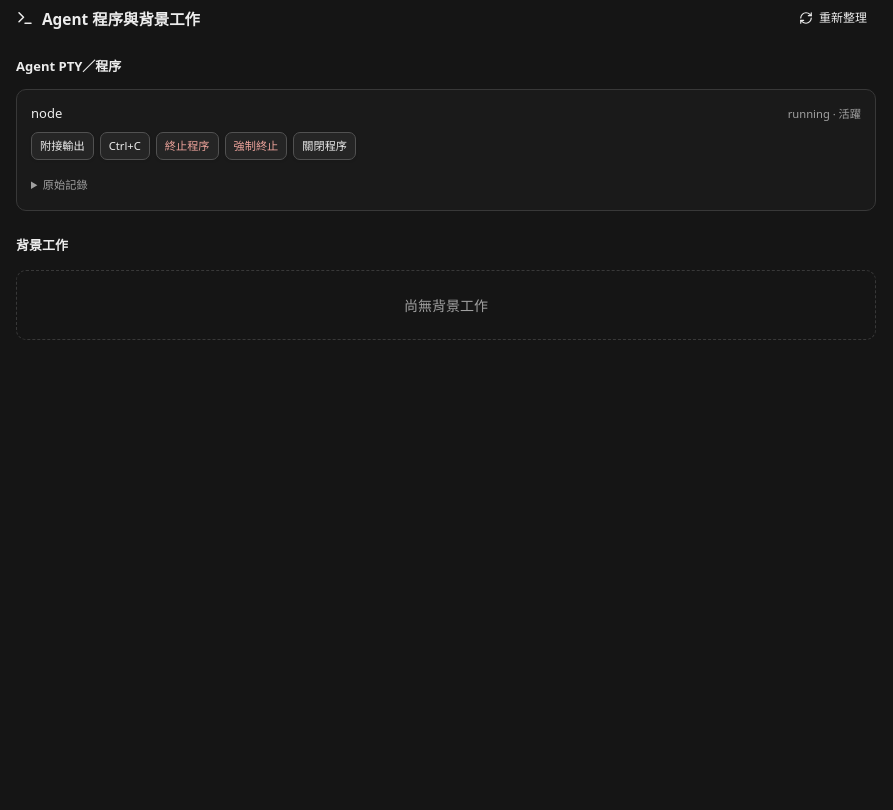
Scenario: reads owner process output, sends only explicit input, and retains its draft on refusal
Click the button "附接輸出" at coordinates (62, 146), box [31,132,94,160]
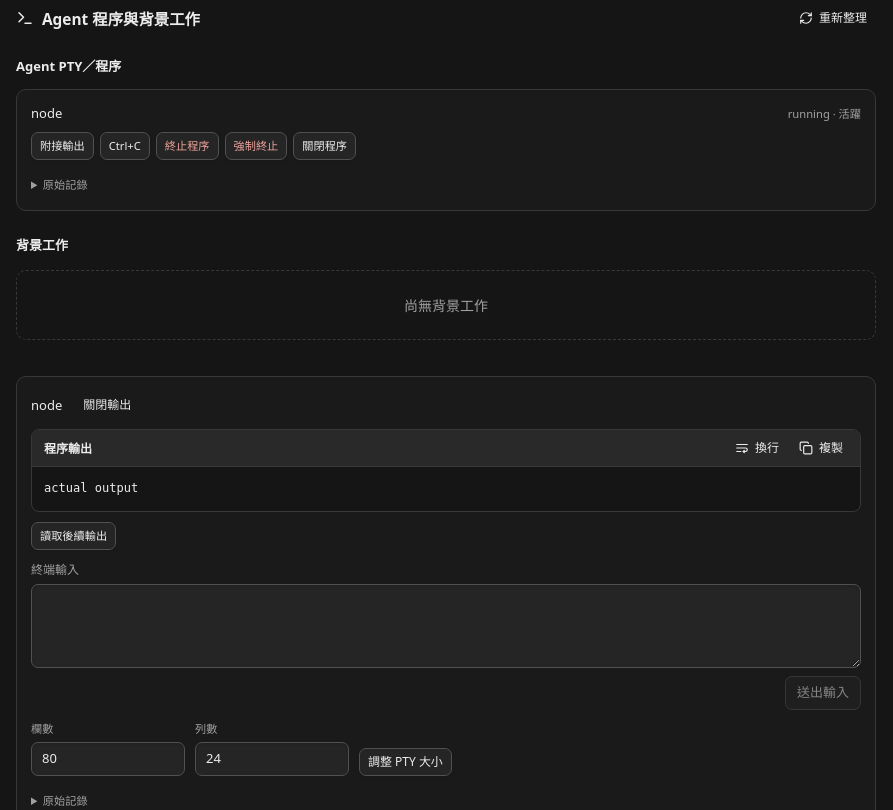
Now the text "actual output" is shown, box [44,481,138,495]
Type "my command" into the text box labelled "終端輸入" at coordinates (446, 626), box [31,584,861,668]
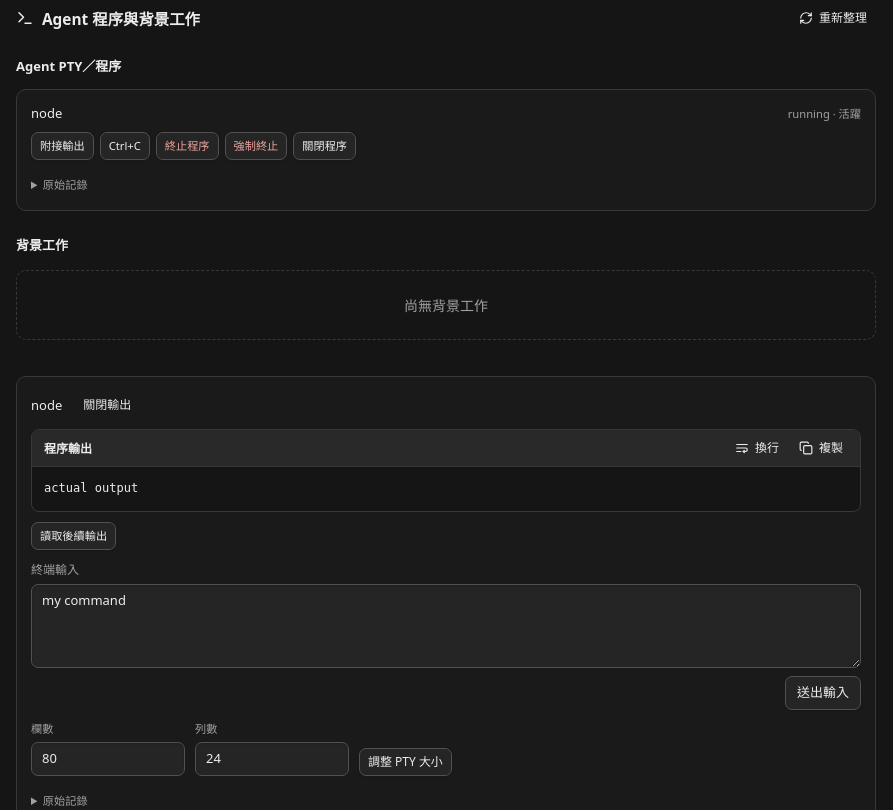
Click the button "送出輸入" at coordinates (823, 693), box [785,676,861,710]
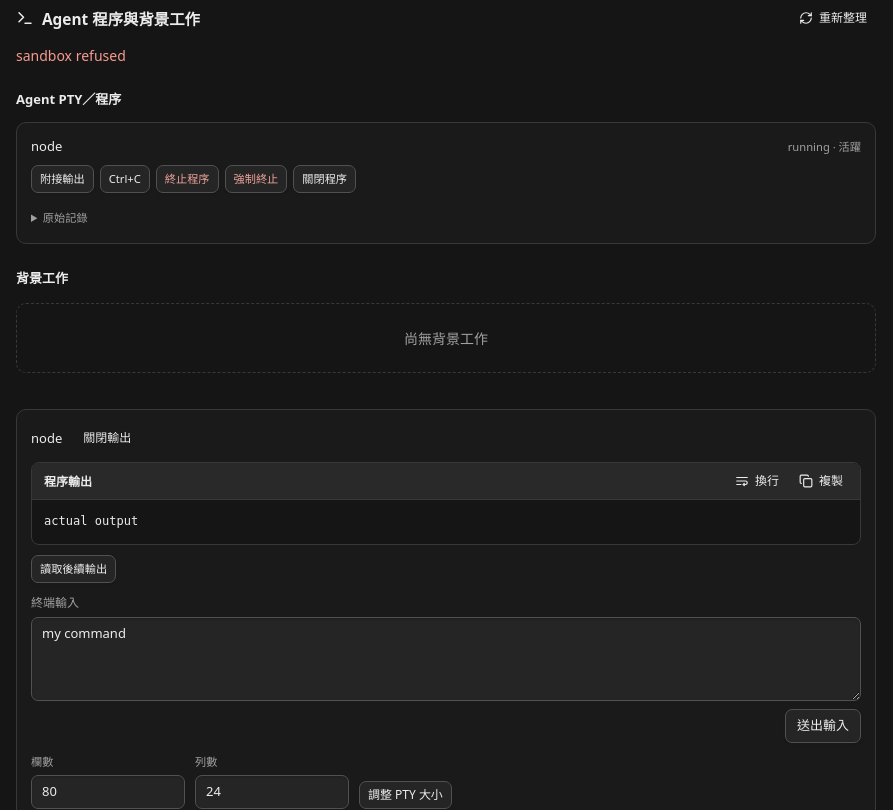
Now the message "sandbox refused" is shown, box [16,46,126,65]
